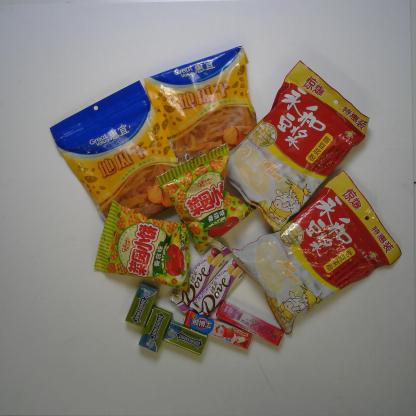Candy: (182, 302, 252, 349), (216, 300, 285, 346)
Chocolate: (167, 241, 234, 314), (189, 249, 257, 320)
Dried Fruit: (49, 79, 179, 224), (144, 45, 258, 164)
Gum: (138, 305, 174, 353), (124, 282, 160, 329), (162, 320, 208, 356)
Instant Drink: (232, 169, 402, 335), (226, 60, 369, 232)
Puffed Food: (156, 143, 266, 254), (93, 198, 191, 293)
